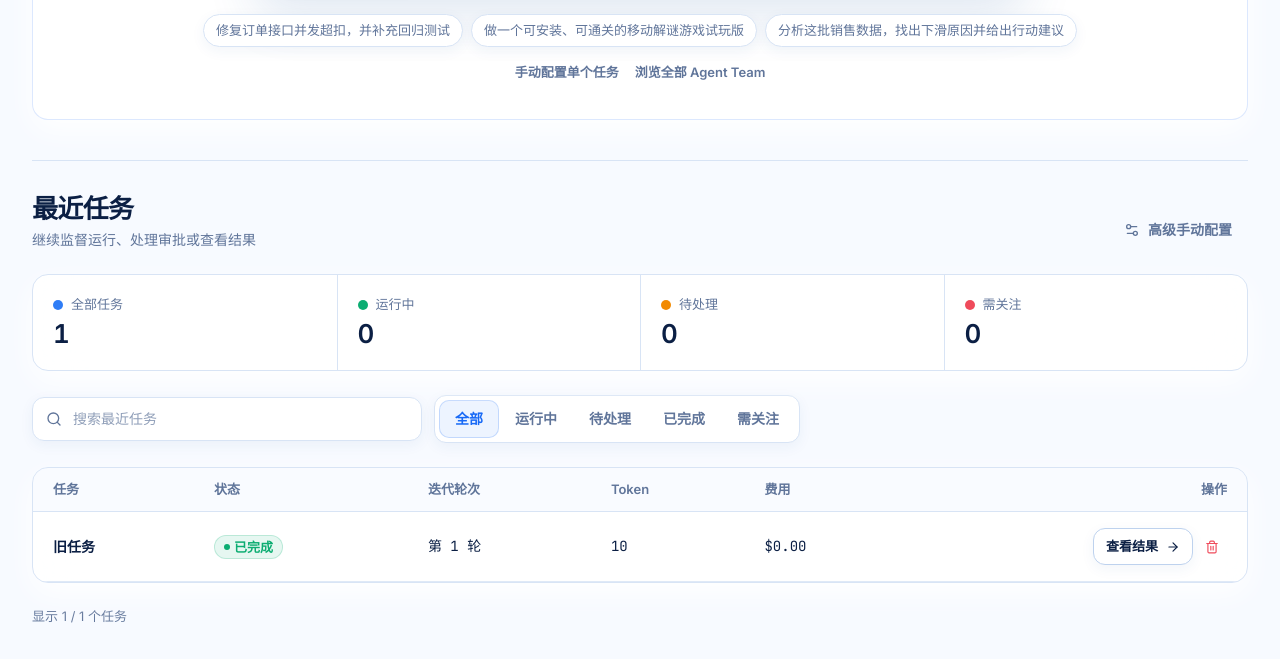
Scenario: home conversational intake › deletes a completed standalone task only after confirmation
(page scrolled)
Check: the text "旧任务" is shown, box left=53, top=538, right=95, bottom=555
Click the button named "删除任务 旧任务". click: x=1212, y=547
box: left=1197, top=529, right=1227, bottom=565
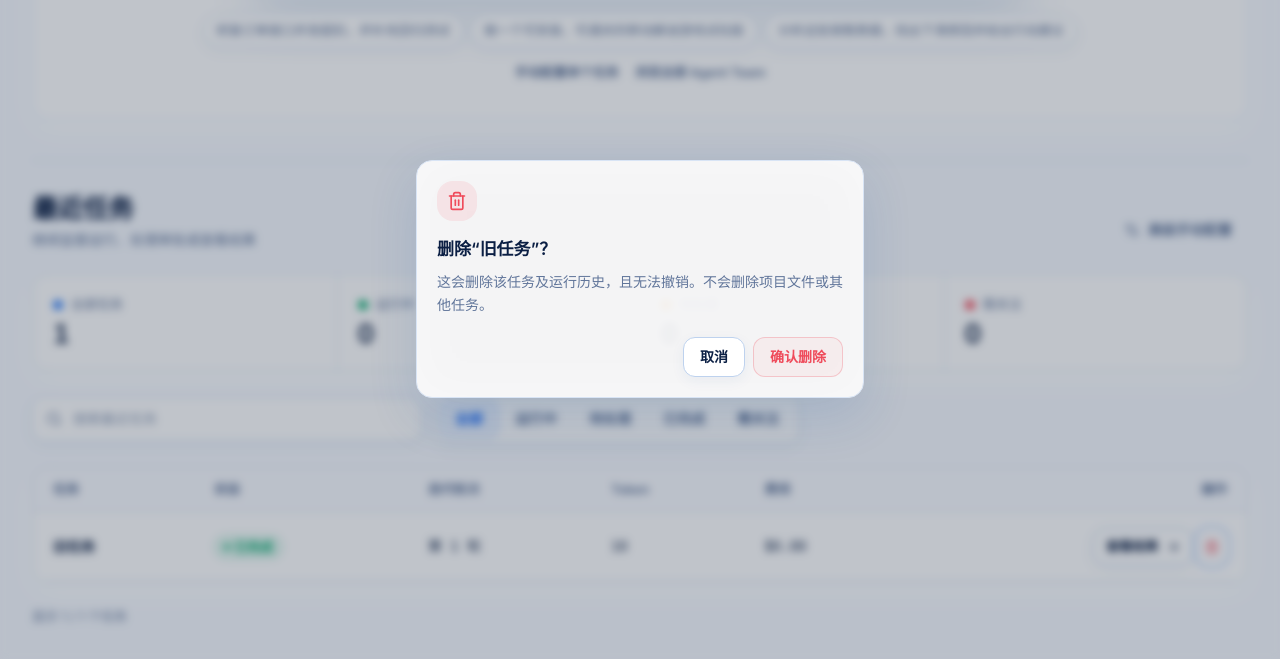
Check: the dialog shows "删除“旧任务”", box left=416, top=160, right=864, bottom=398
Click the button "确认删除". click: x=798, y=356
box: left=753, top=336, right=843, bottom=376
(page scrolled)
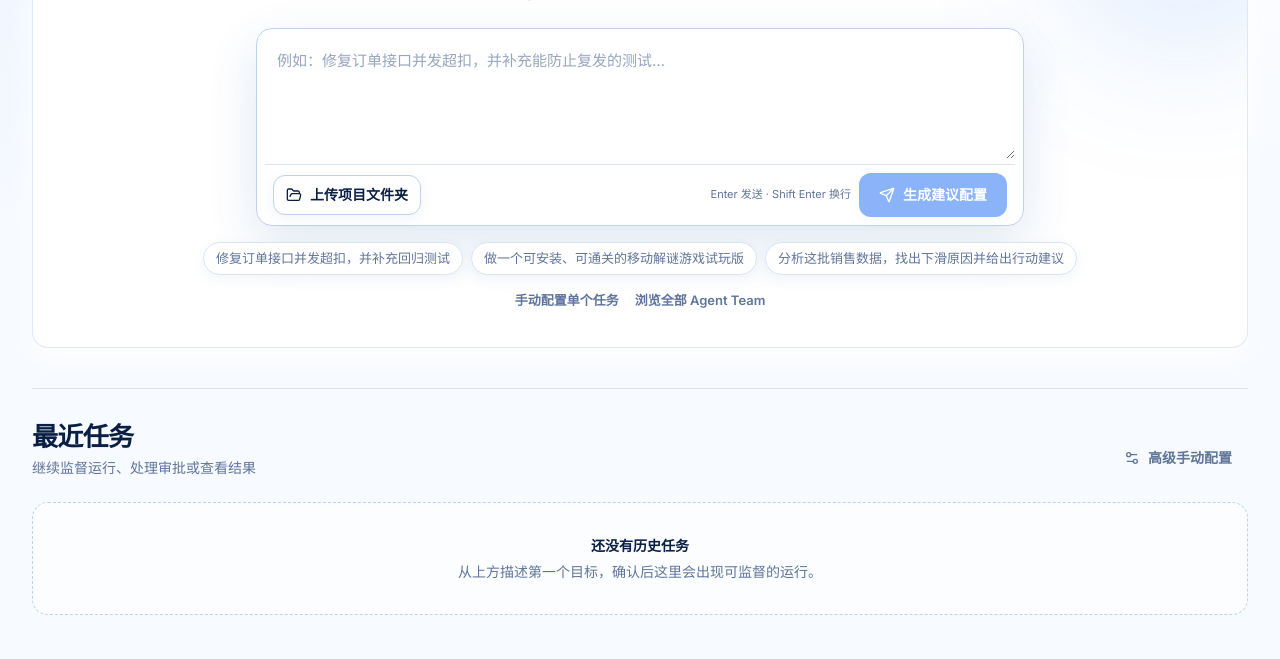
Check: the text "旧任务" is gone
